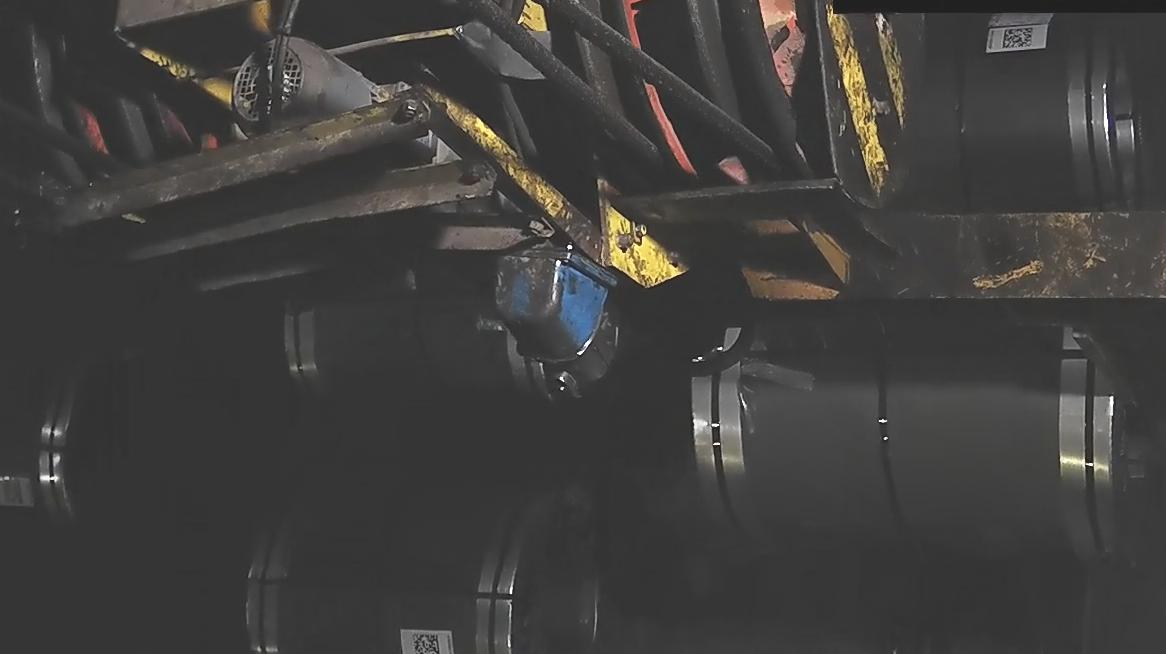data matrix: (1001, 26, 1035, 52), (411, 631, 445, 654)
